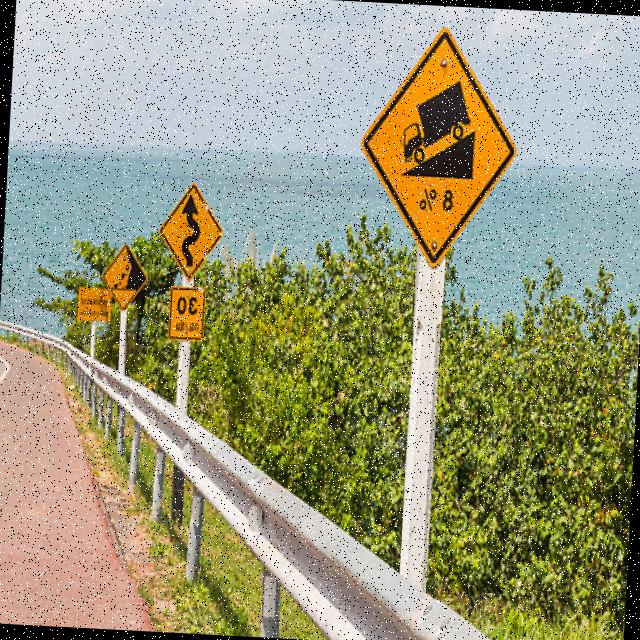left_sharp_curve: (148, 164, 230, 286)
